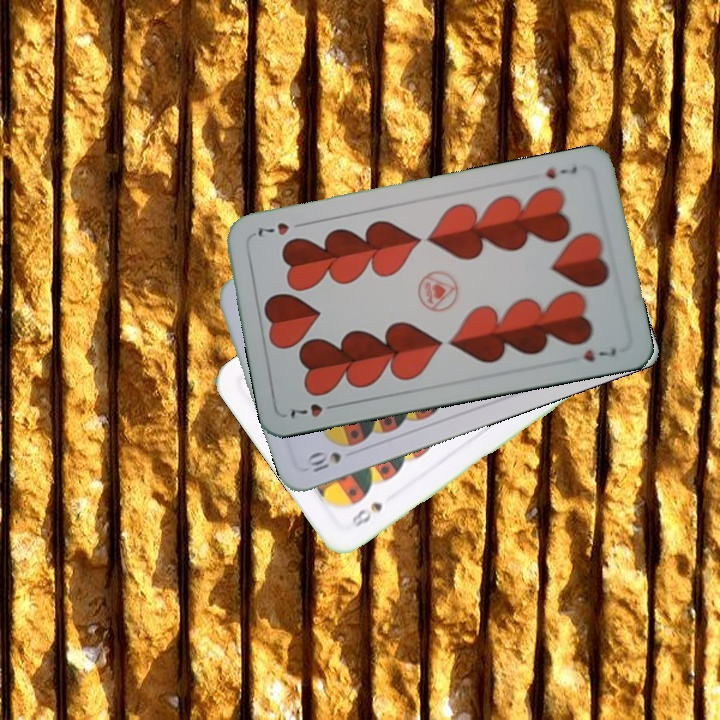H7: (285, 399, 342, 422), (542, 162, 580, 182)
S10: (302, 447, 345, 475)
S8: (347, 498, 385, 530)
